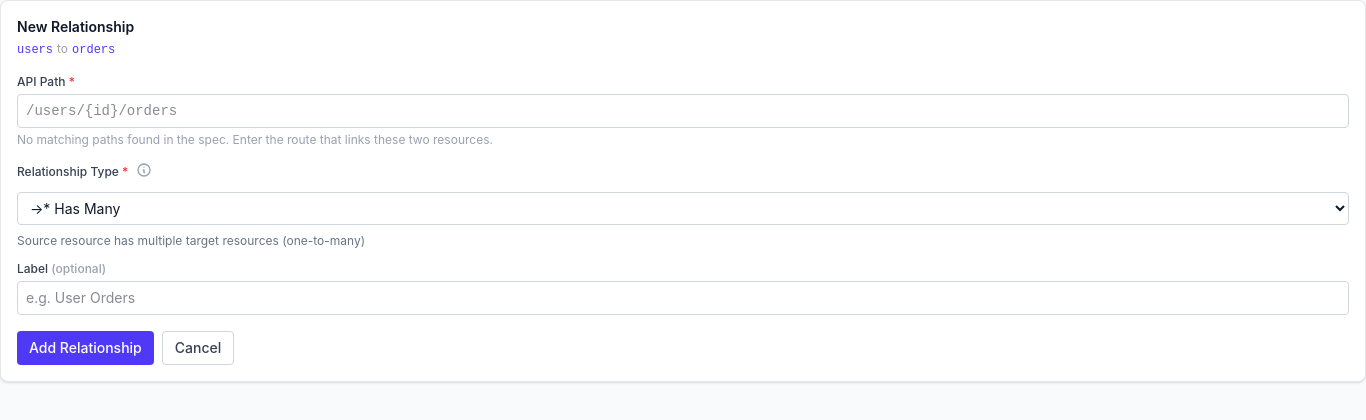
Test: RelationshipForm › shows validation error when path is empty
The width and height of the screenshot is (1366, 420).
Click the button with test id "rel-form-confirm": [85, 348] box [17,331,154,365]
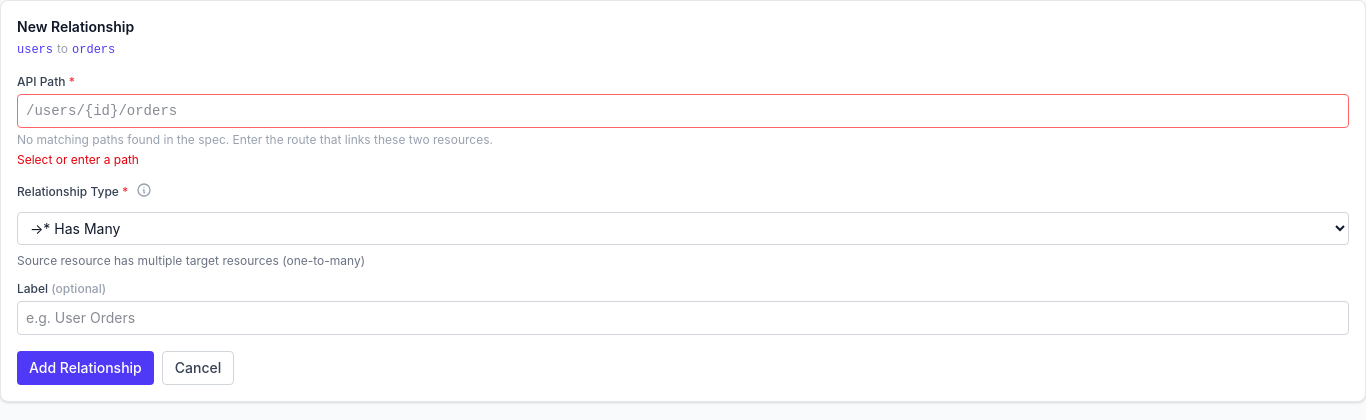
Expected: the text "Select or enter a path" is shown, [17,152,139,167]
